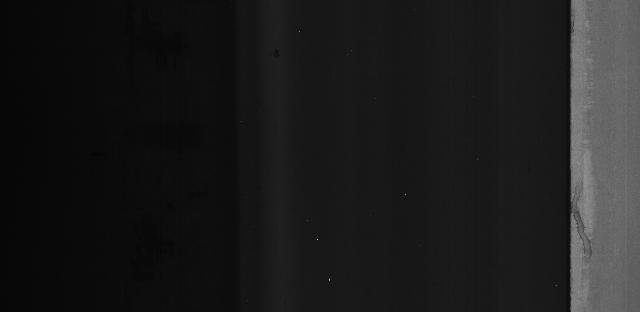water_spot: (572, 181, 614, 266)
